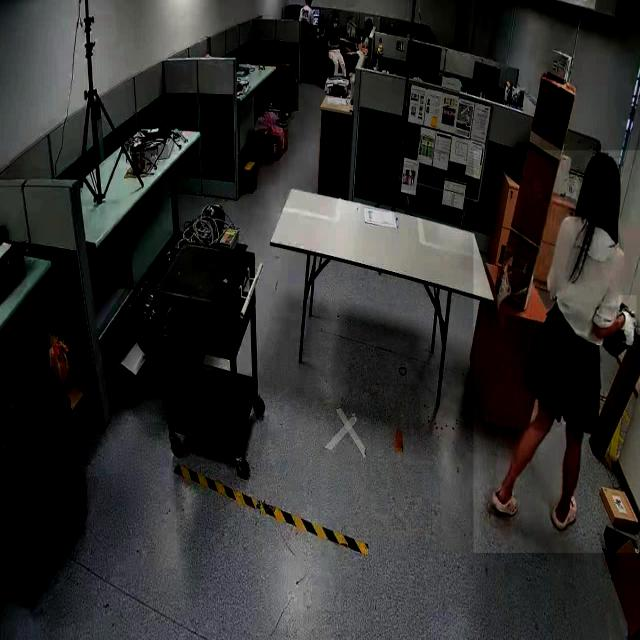hand_glove: (618, 295, 636, 349)
head_nohelmet: (584, 152, 622, 182), (365, 17, 373, 26), (332, 11, 340, 17)
person: (473, 150, 640, 554)
